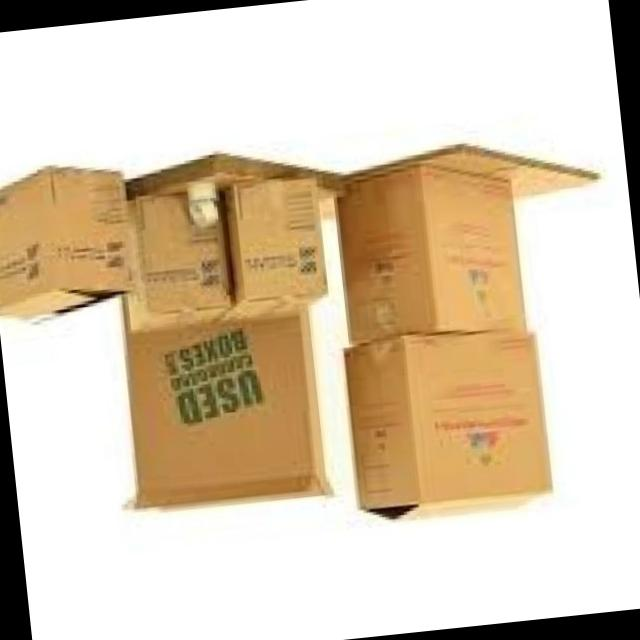cardboard paper: (347, 334, 552, 510), (340, 167, 526, 344), (0, 170, 132, 319), (226, 180, 328, 317)
